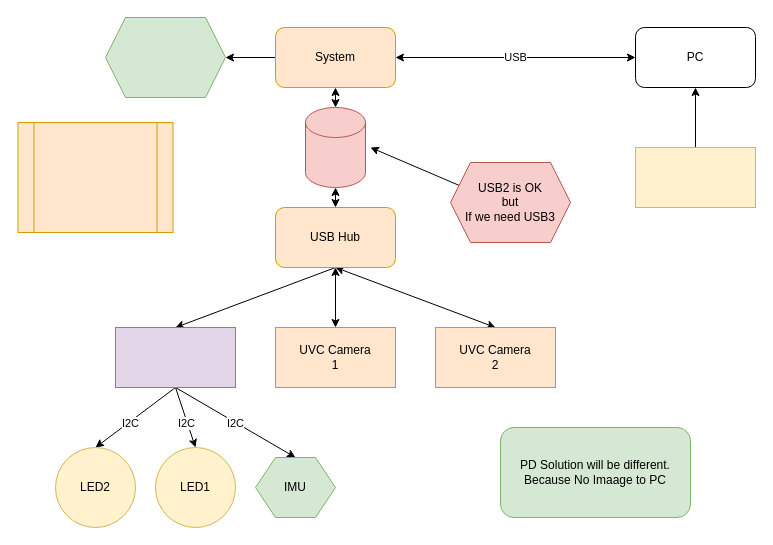
This 773x545 diagram has some shape labels left out. The centre of each missing label's shape, as x and y in pixels:
"FT2232 or Pico" belongs at (175,357).
"Motor Control" belongs at (165,57).
"Motor Control will move to PC Because IMU data will go through USB to PC" belongs at (95,177).
"Python or Bonsai" belongs at (695,177).
"Ring" belongs at (335,147).
